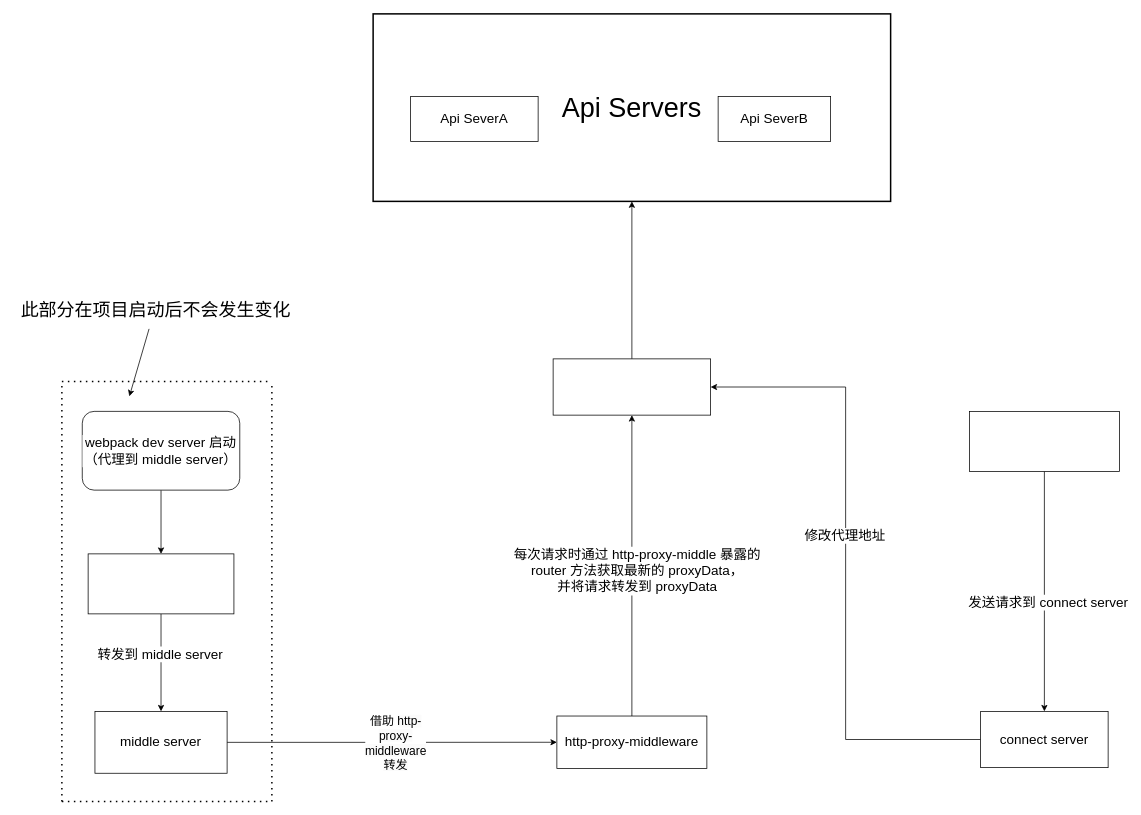
Image size: 1141x815. Some labels were removed from this diagram. Here are the shapes that lost their labels. From the top down, the centre of each, then its label:
point (631, 386): 模块中的私有变量proxyData
point (1044, 441): 用户在页面切换代理地址
point (160, 583): 页面发起 ajax 请求
